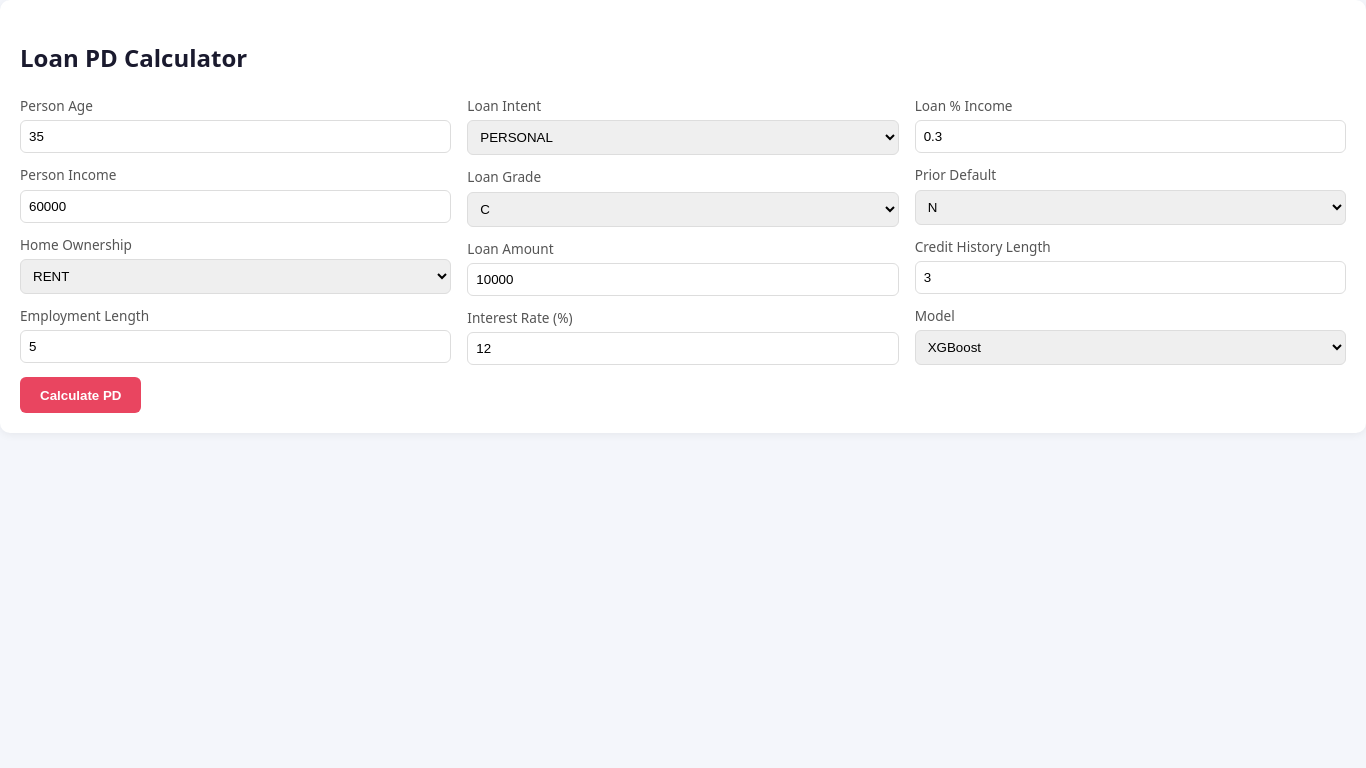
PDCalculator › submits a prediction request
What coordinates should you click on to do the following:
click the button "Calculate PD"
I would click on:
 (81, 395)
Its box is [20,377,142,413].
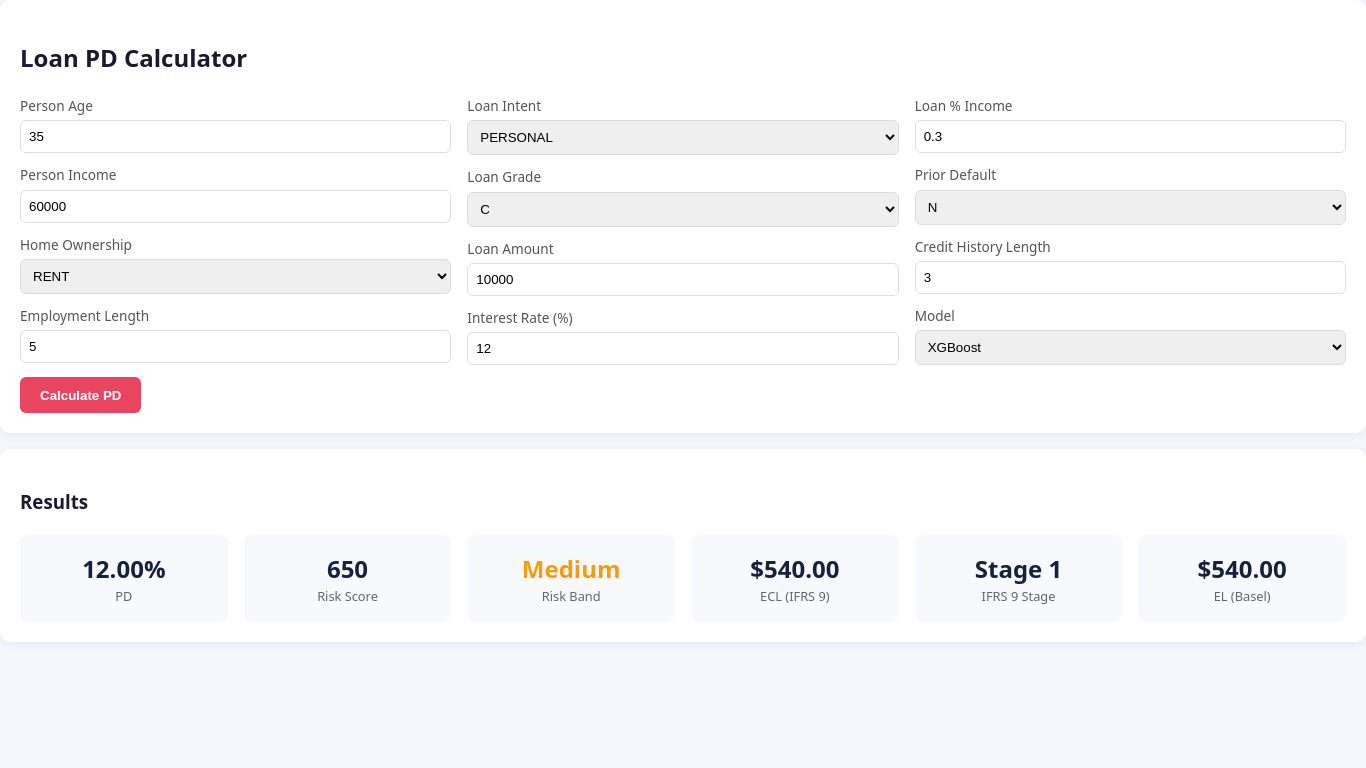
expect the text "Medium" is shown: met, box [522,552,620,585]
